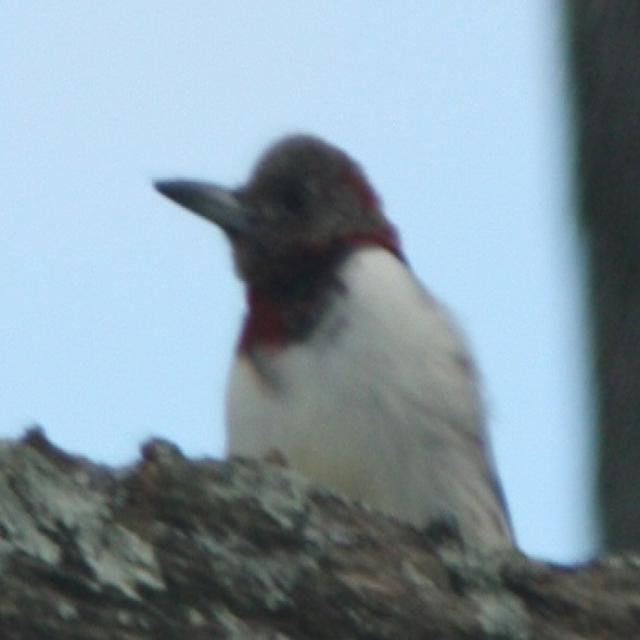bird: (144, 120, 527, 545)
